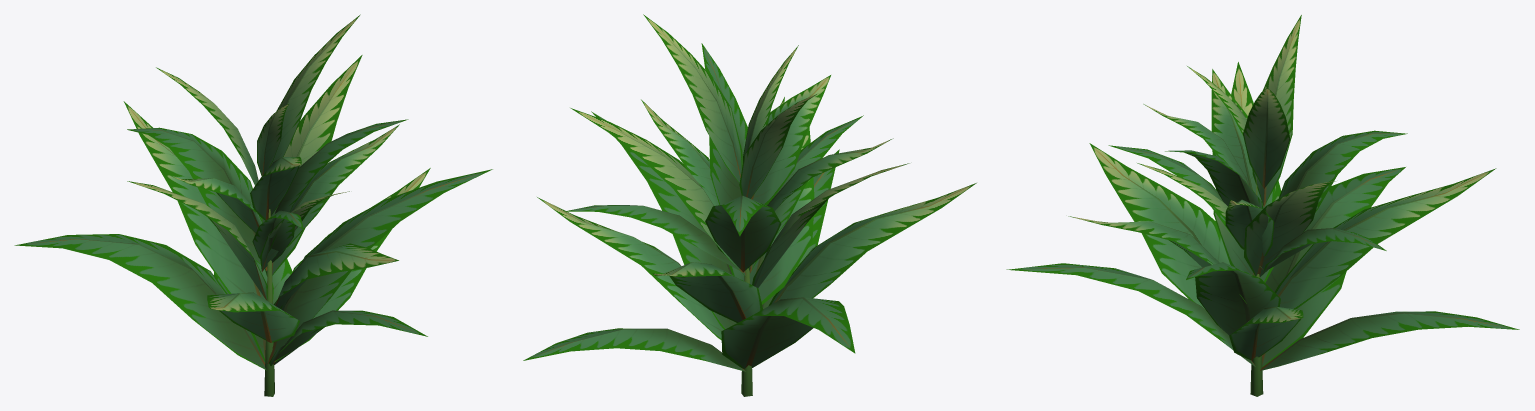
The model's file is Plant_003_Mesh_001.fbx.
3 renders of one model, left to right at view 1: azimuth 30°, elevation 25°; view 2: azimuth 150°, elevation 25°; view 3: azimuth 270°, elevation 25°, orthographic. The views are drawn at different scales.
Visible parts, largest first — view 1: Plant_003_Mesh_001; view 2: Plant_003_Mesh_001; view 3: Plant_003_Mesh_001.
Boxes of the visible parts, x1,y1,x2,y2 form: Plant_003_Mesh_001: [14, 14, 492, 396]; Plant_003_Mesh_001: [523, 14, 976, 396]; Plant_003_Mesh_001: [1006, 15, 1519, 396].
Size of the model in its own units: 449 by 410 by 540.
